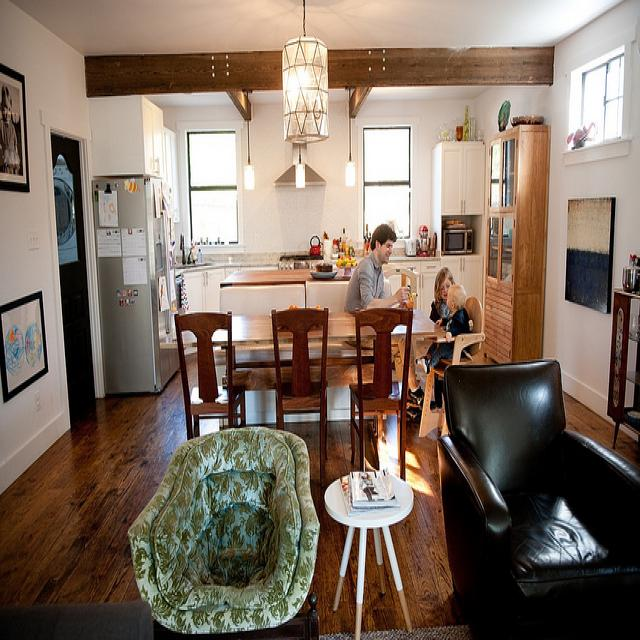chair: (435, 359, 639, 633), (132, 424, 321, 631), (349, 306, 414, 482), (173, 310, 247, 440), (272, 308, 330, 473), (417, 297, 483, 440)
dining table: (184, 310, 431, 362), (234, 346, 359, 368)
